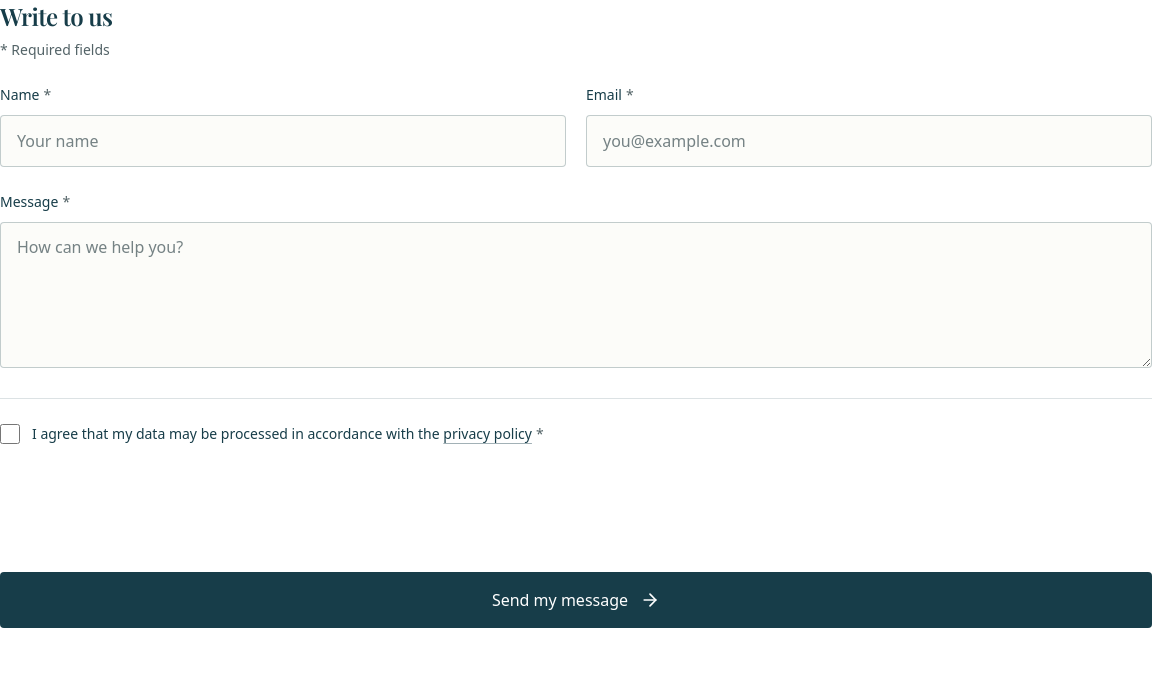
form interaction contracts › keeps values and associates backend validation: en
The image size is (1152, 674).
Type "Doe" into the field labelled "Name*" at (283, 141), box [0,115,566,167]
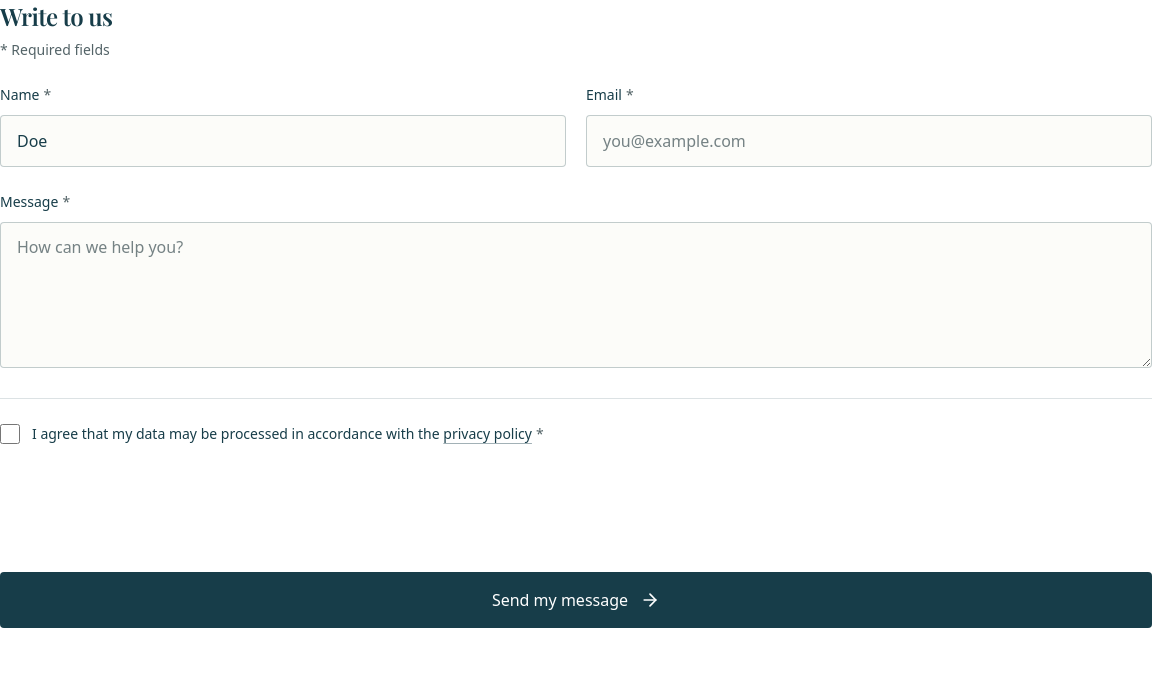
Type "jane@example.com" into the field labelled "Email*" at (869, 141), box [586,115,1151,167]
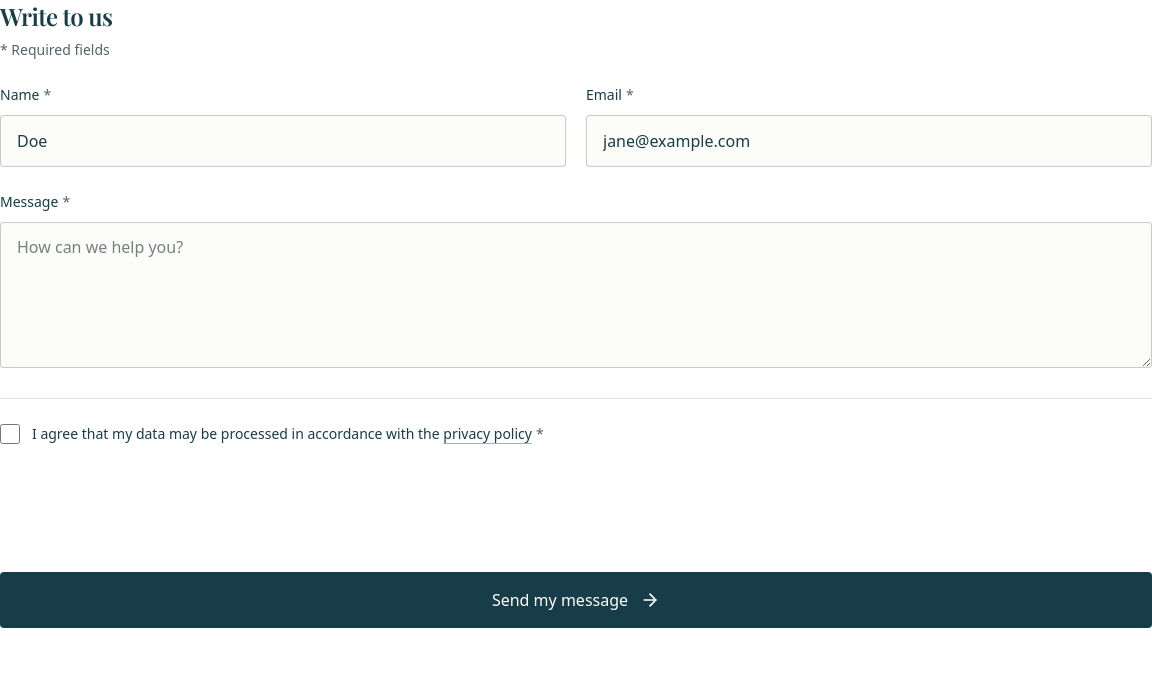
Type "Question about my accommodation" into the text box labelled "Message*" at (576, 294), box [0,222,1151,368]
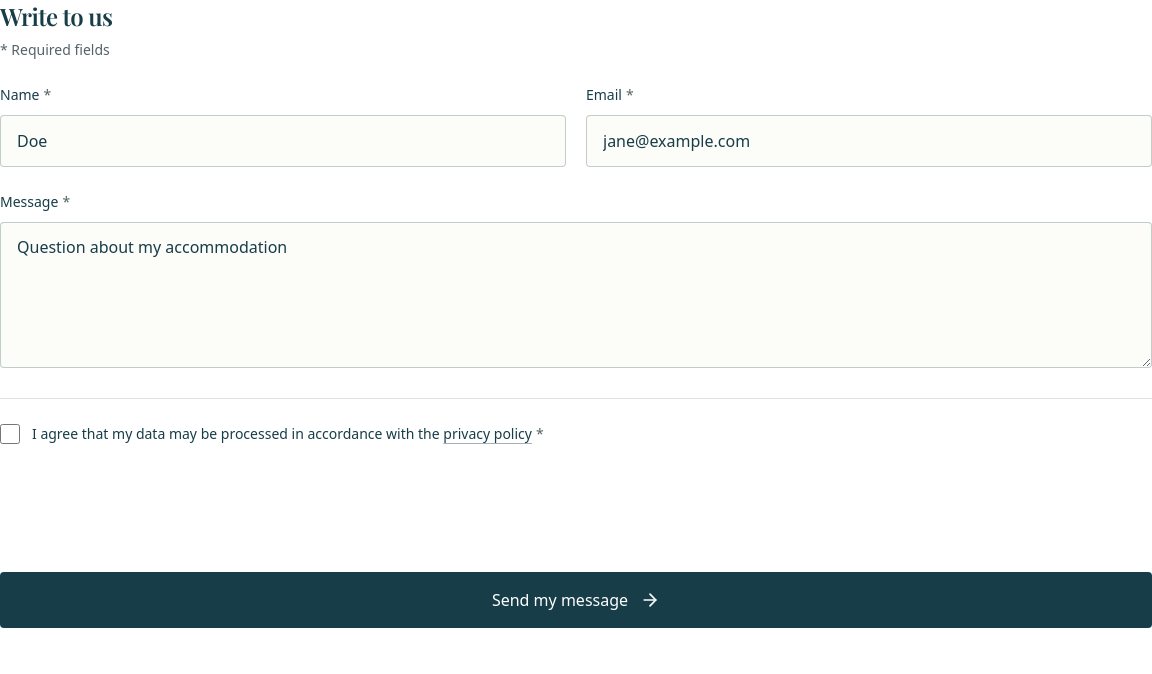
Click the checkbox at (10, 434), box [0,424,20,444]
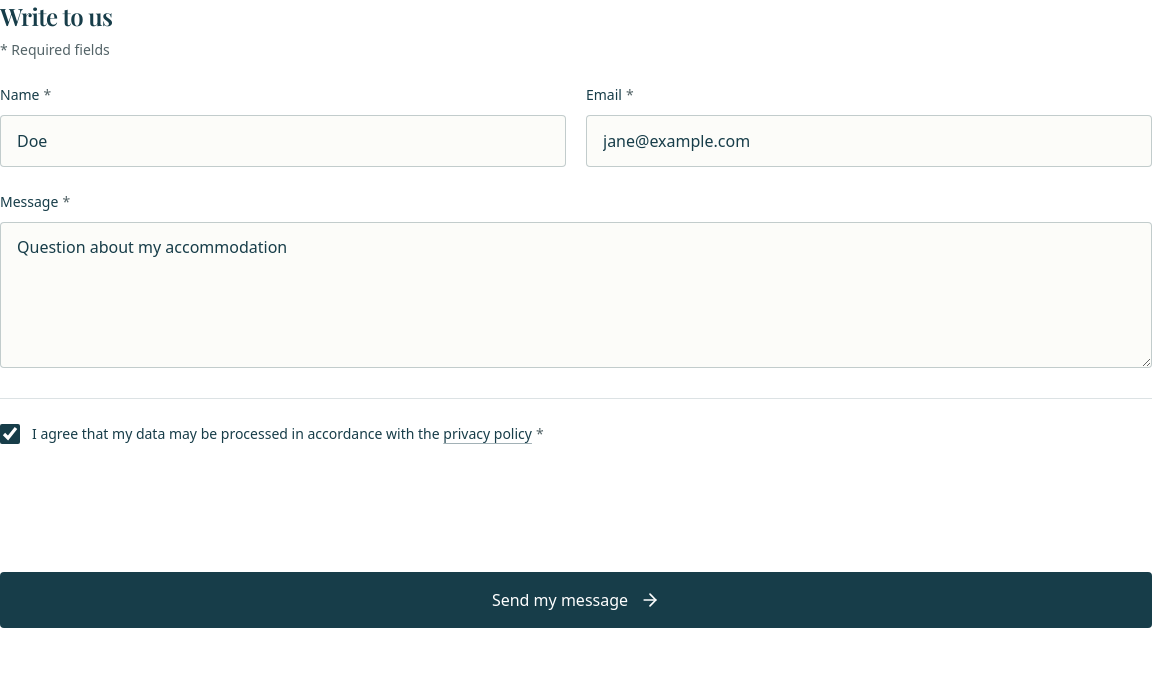
Submit the form
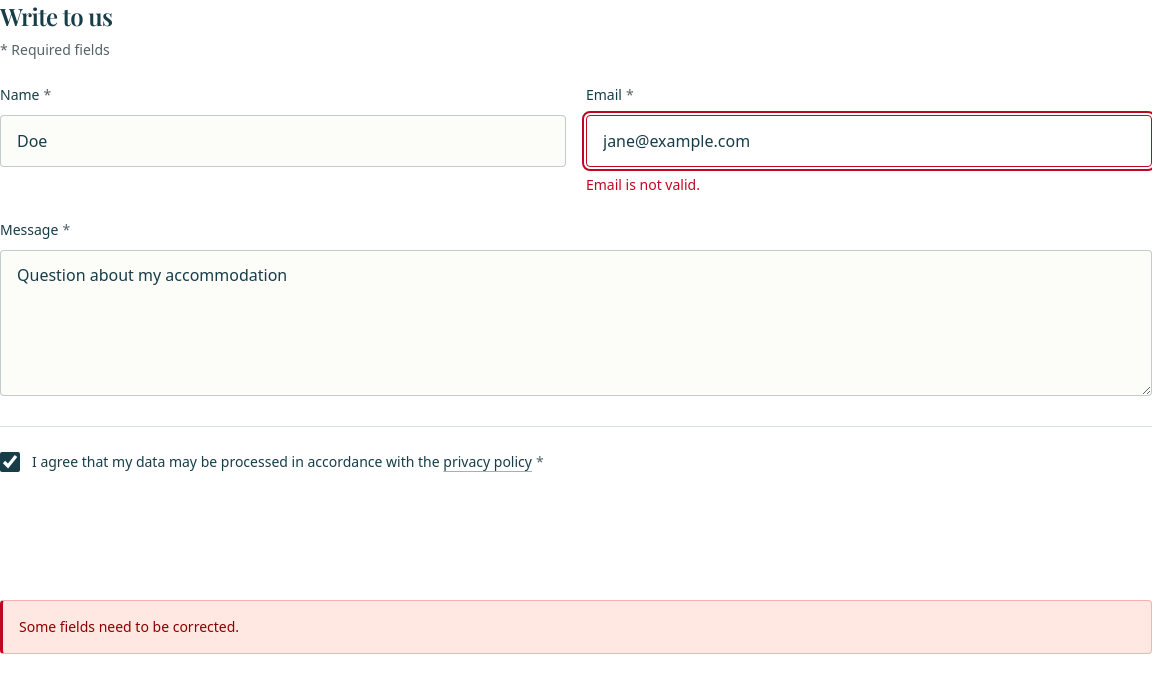
Result: the text "Some fields need to be corrected." is shown at [0,600,1151,654]
